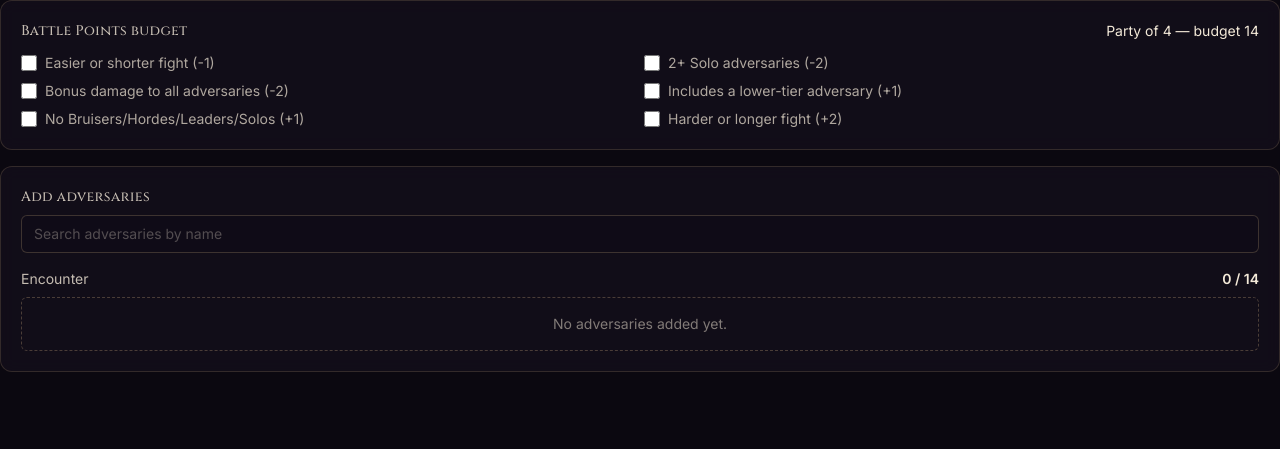
EncounterBuilderPanel › adds an adversary from search and shows the running cost
Expected: the text "Party of 4 — budget 14" is shown, [1106,21,1259,41]
In the field with placeholder "Search adversaries by name": (640, 234) [21,215,1259,253], type "Acid"
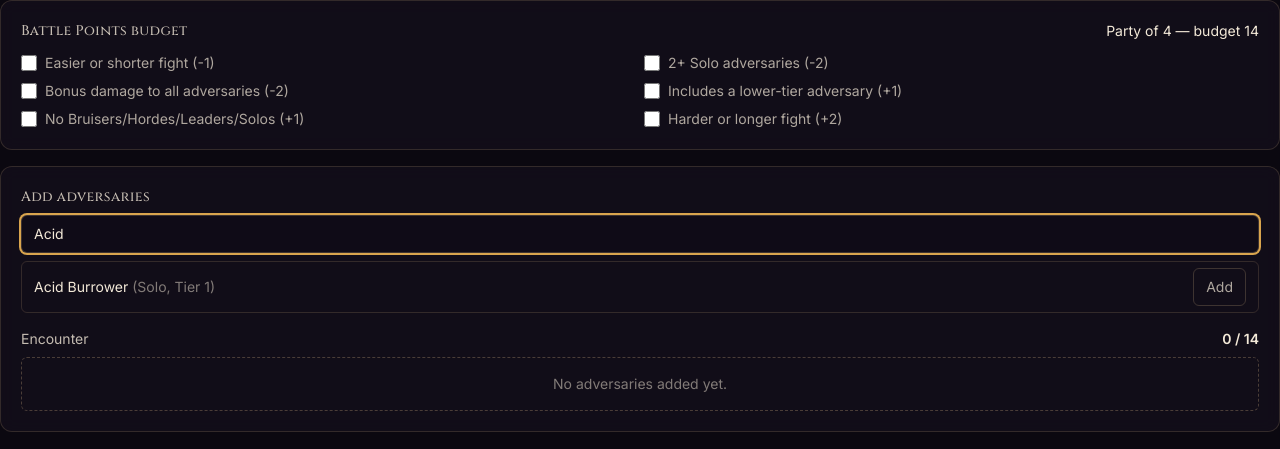
Expected: the text "Acid Burrower (Solo, Tier 1)" is shown, [34,277,215,297]
Click the button "Add": (1220, 287) [1193,268,1246,306]
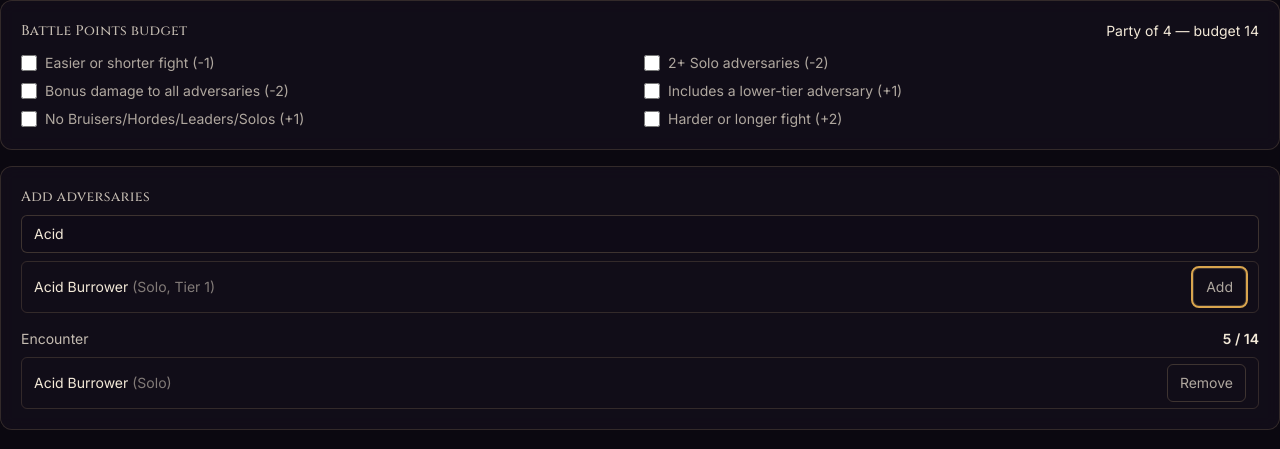
Expected: the text "5 / 14" is shown, [1223,329,1259,349]
